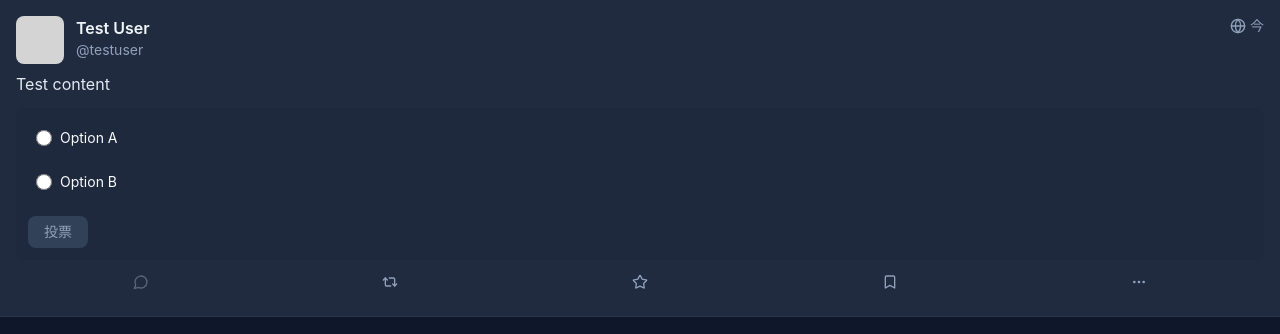
StatusCard › poll voting › should enable vote button when option is selected
The width and height of the screenshot is (1280, 334).
Select an option
Click the text "Option A" at point(89, 138), box [60,128,118,148]
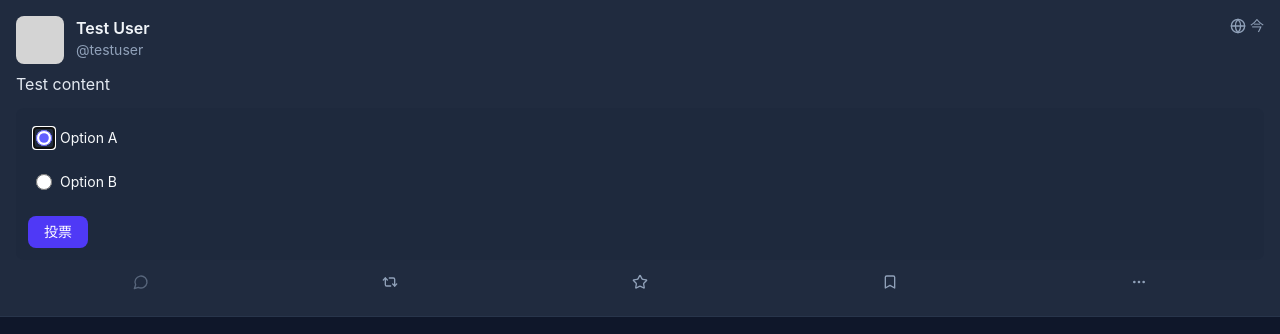
Expected: the button "投票" is enabled, [28,216,88,248]
